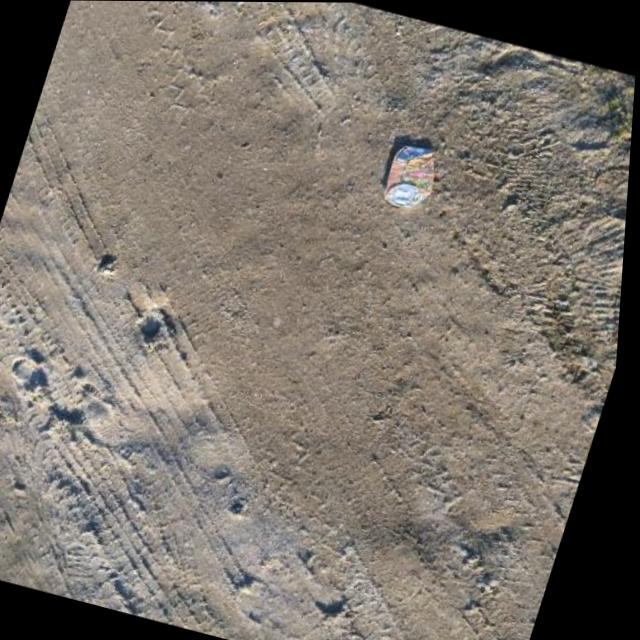metal: (378, 138, 446, 212)
